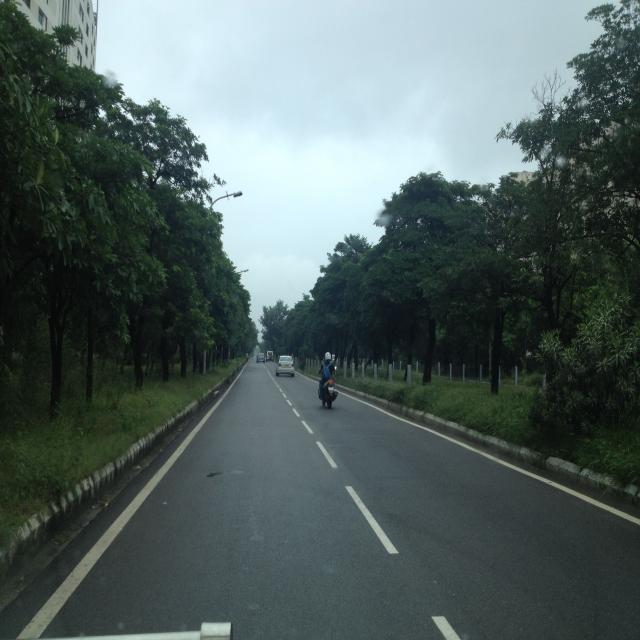Clean road: (0, 335, 640, 640)
